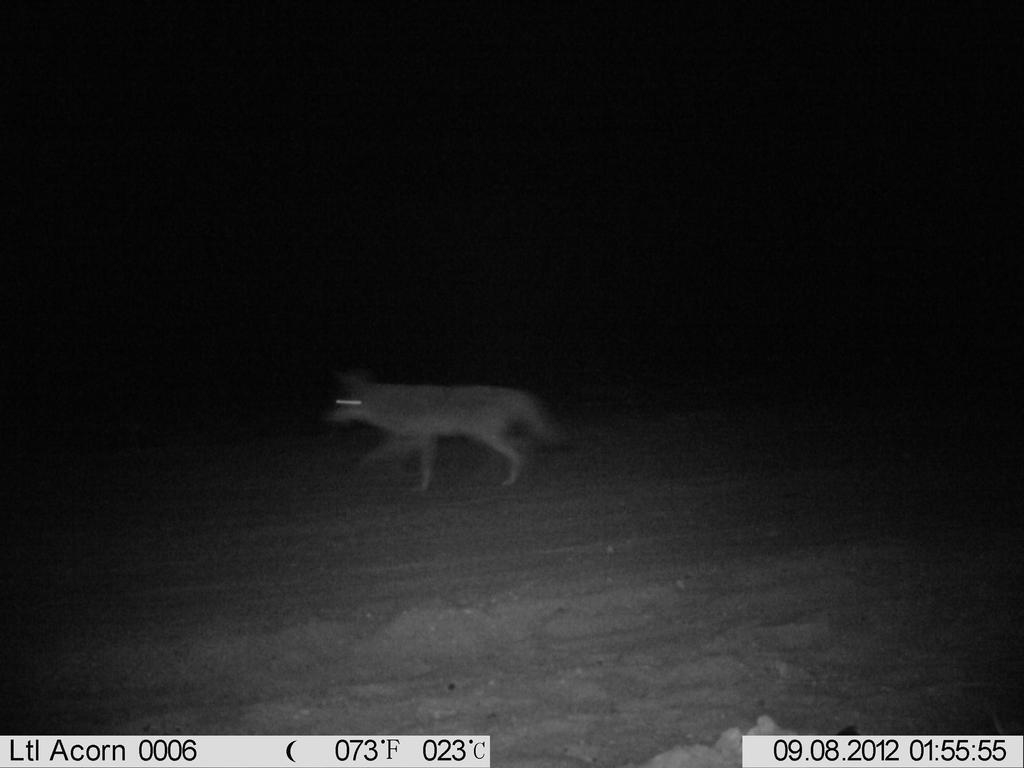coyote: (318, 363, 577, 495)
